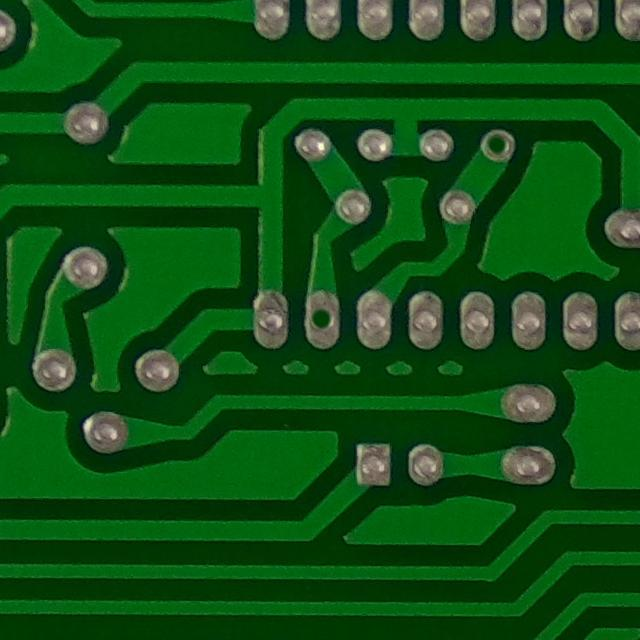missing_hole: (291, 293, 349, 348)
